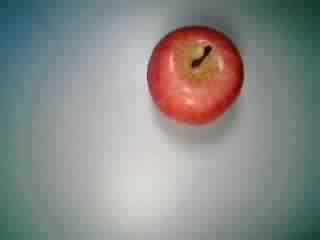apple: (144, 24, 248, 125)
